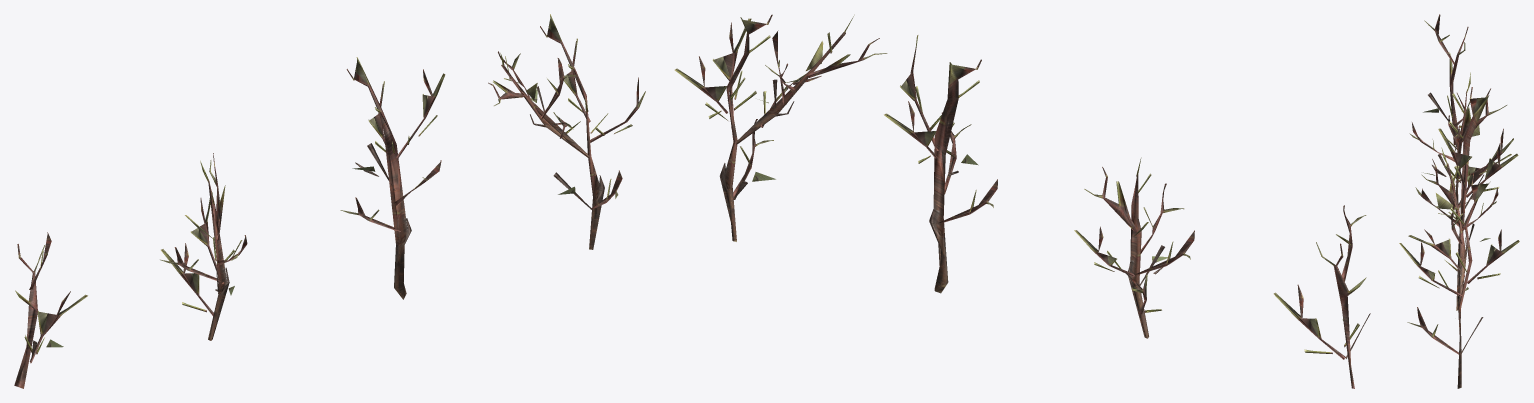
File: shrub_04.glb
3 renders of one model, left to right at view 1: azimuth 30°, elevation 25°; view 2: azimuth 150°, elevation 25°; view 3: azimuth 270°, elevation 25°, orthographic. The views are drawn at different scales.
Parts seen in each view (by area): view 1: v0; view 2: v0; view 3: v0.
Boxes of the visible parts, <box> form: v0: <box>14,14,645,388</box>; v0: <box>674,14,1370,388</box>; v0: <box>1399,14,1519,388</box>.
Bounding box in the file's own units: 0.9489 × 0.3465 × 0.1858.
Materials: 1 (1 with a texture image).
